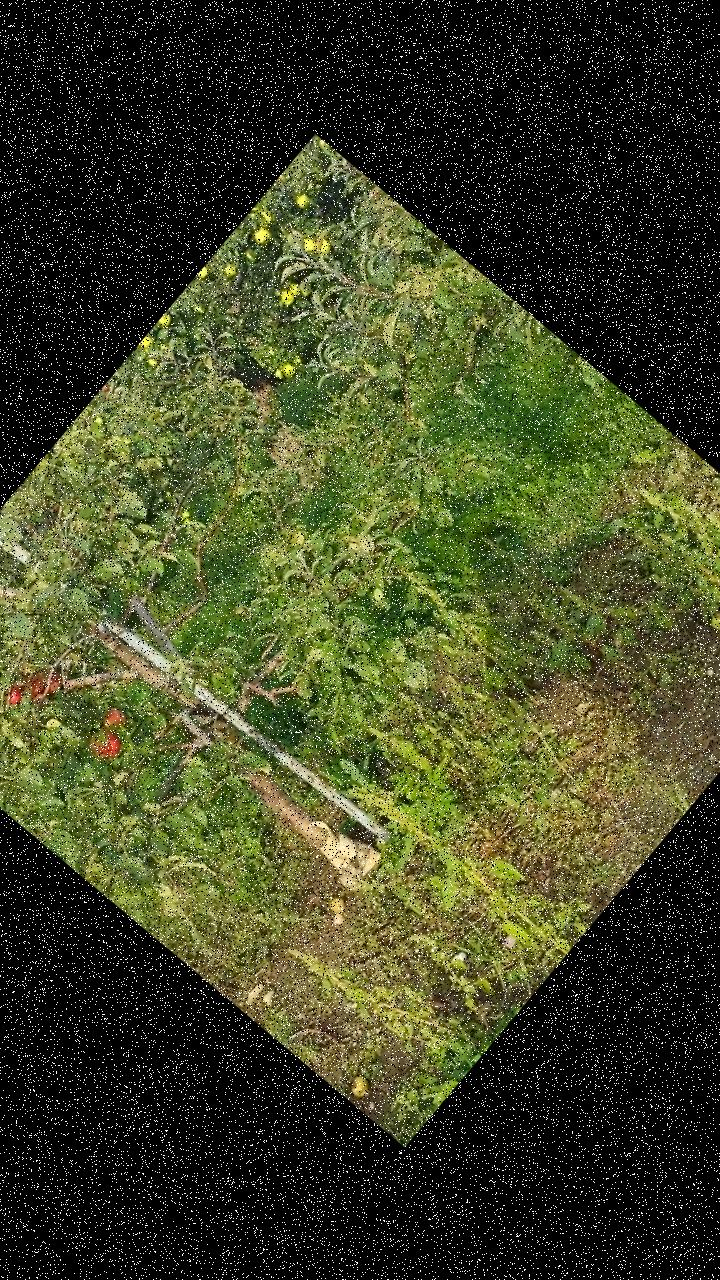Apple: (88, 726, 126, 764), (20, 669, 54, 704), (102, 705, 130, 733), (40, 666, 66, 694), (4, 684, 27, 708)
